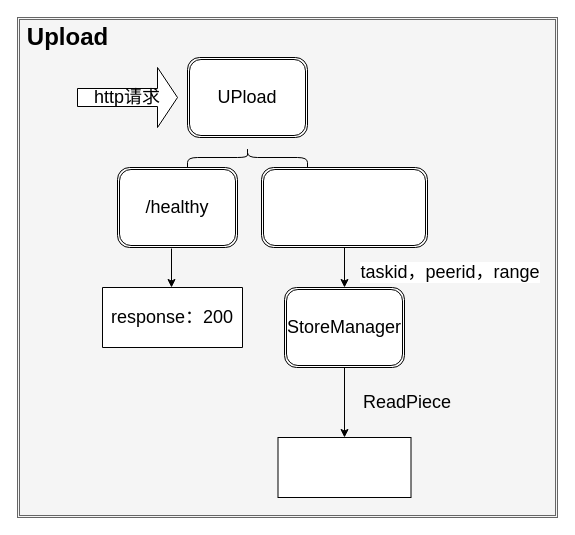
Image size: 575x535. Some labels were removed from this diagram. The box of each missing label's shape, as (x1, y1, x2, y2) in pixels:
/task_prefix/task_id: (260, 166, 428, 248)
io.Reader返回分片: (277, 436, 411, 498)
